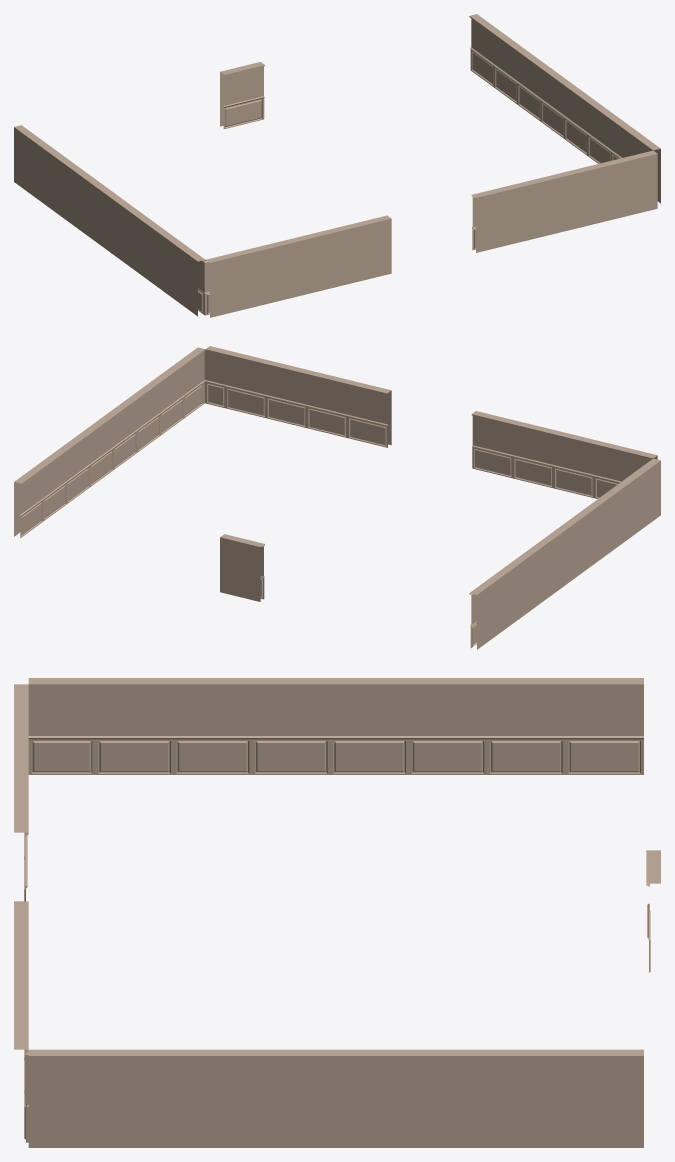
File: F_bossromm_walls.fbx
3 views of the same model, one above another, from view 1: azimuth 30°, elevation 25°; view 2: azimuth 150°, elevation 25°; view 3: azimuth 270°, elevation 25° (orthographic). The views are drawn at different scales.
Visible parts, largest first — view 1: boss_wall; view 2: boss_wall; view 3: boss_wall.
Part boxes in pixels (x1,y1,x2,y2): boss_wall: (14,14,660,317); boss_wall: (14,346,660,649); boss_wall: (14,678,660,1147).
Size of the model in its own units: 2024 by 230 by 1464.
